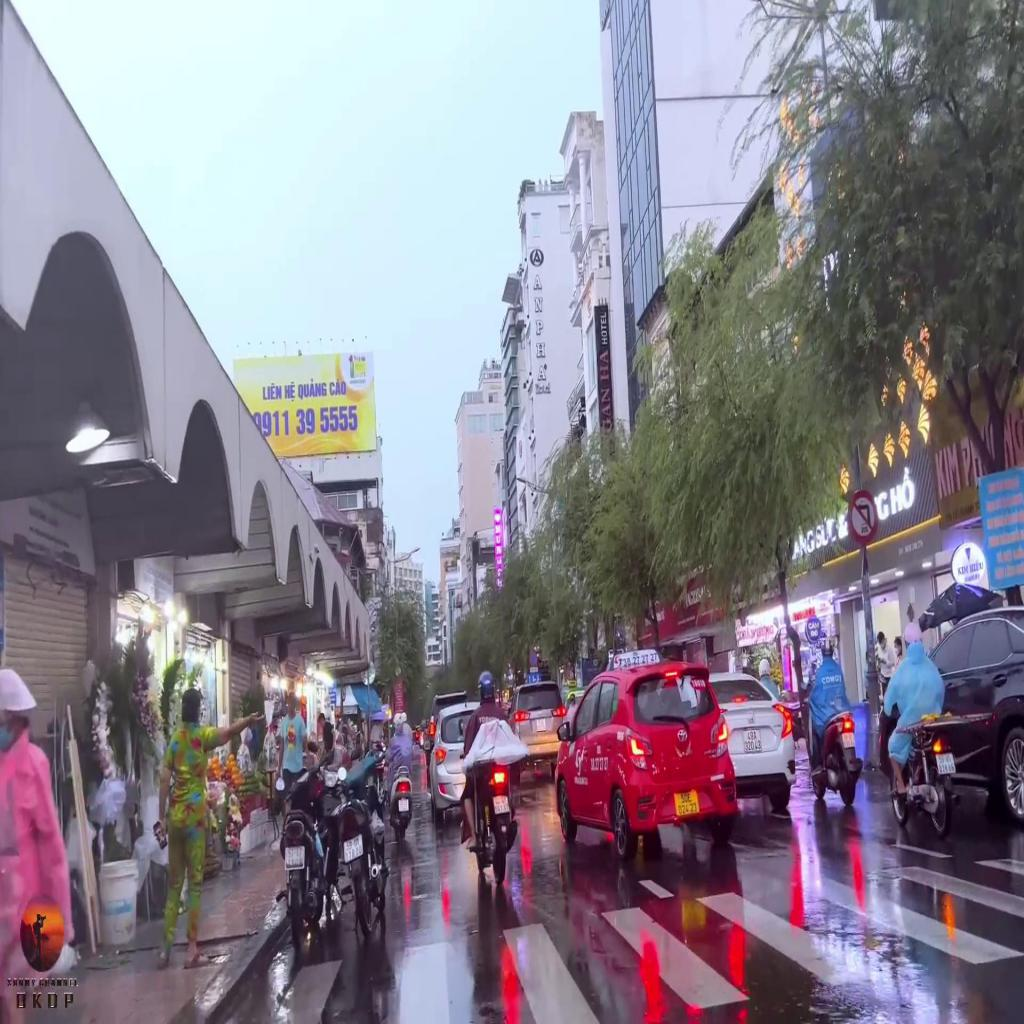cam_o_to_re_trai: (848, 490, 878, 544)
